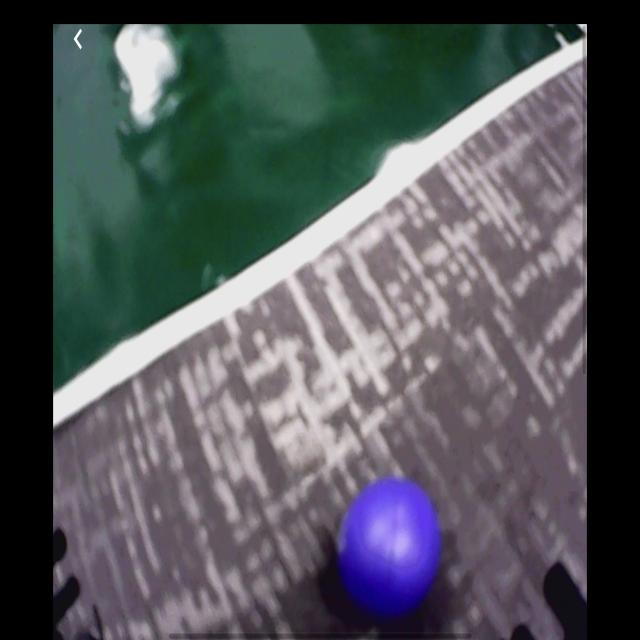ball: (343, 478, 441, 615)
